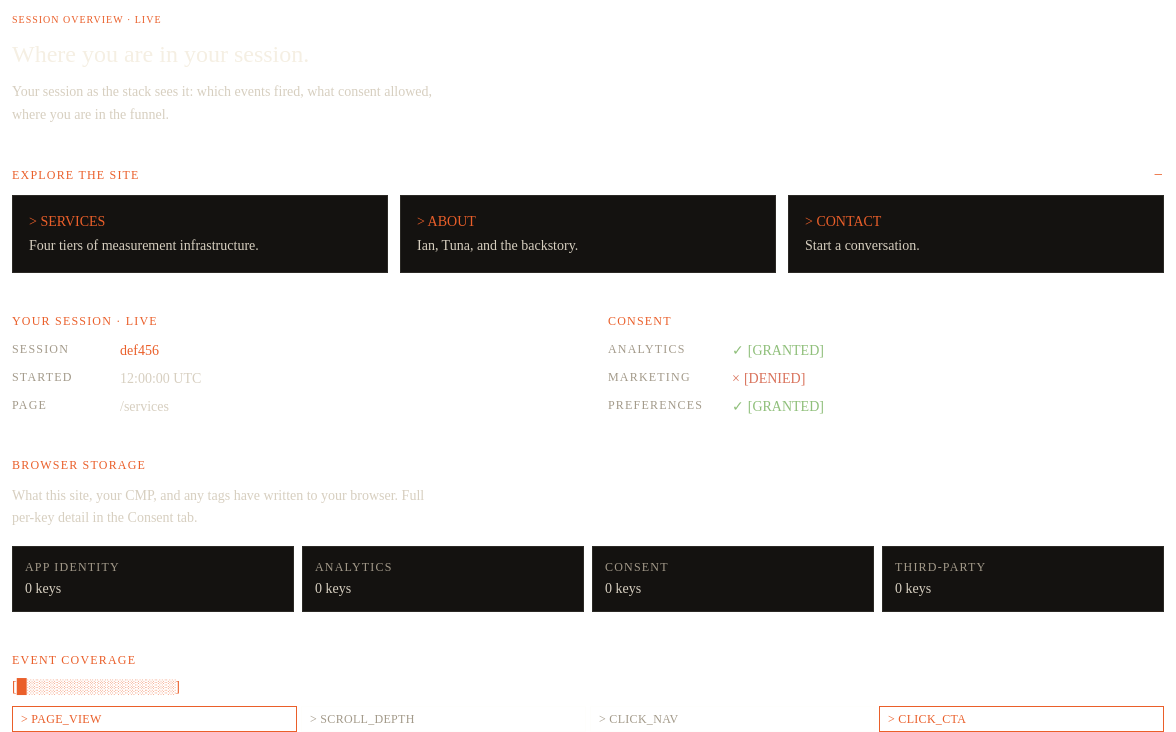
OverviewTab › UAT r3 B3, collapsible portals (mobile-default-collapsed) › clicking the toggle hides the portal list (and flips aria-expanded)
The image size is (1176, 732).
Click the button with test id "overview-portals-toggle": (76, 174) x1=12 y1=166 x2=1164 y2=182
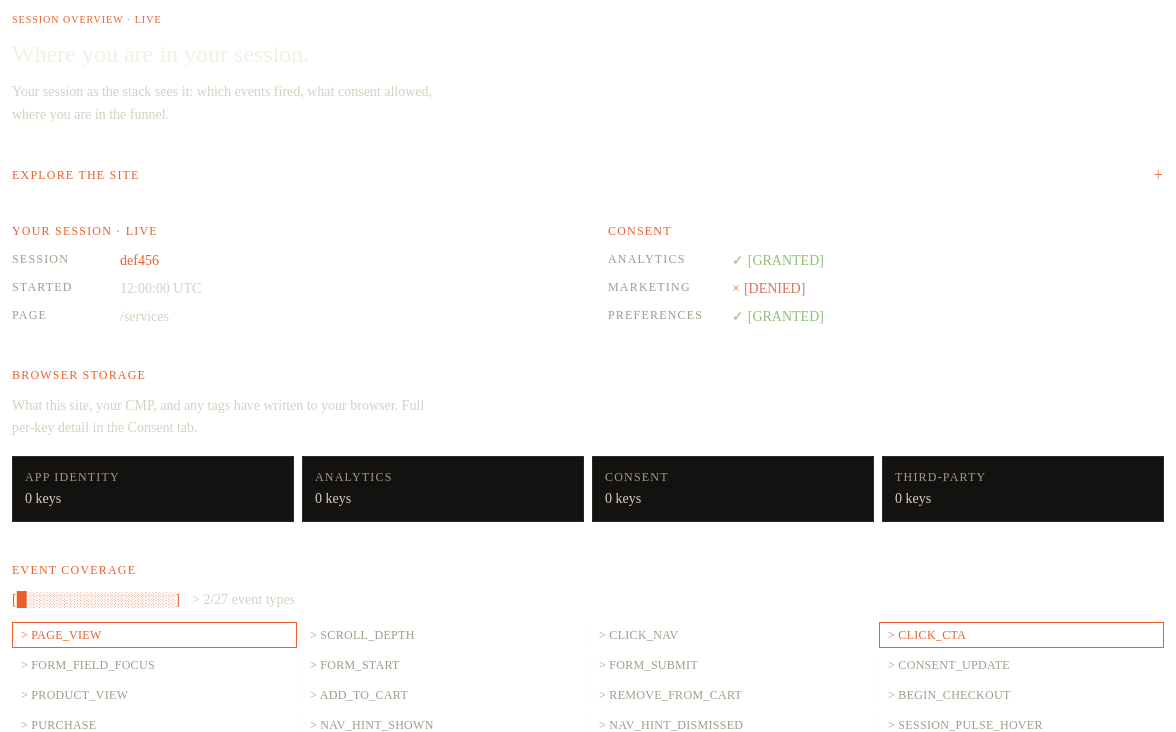
Check: the button with test id "overview-portals-toggle" is collapsed, box x1=12 y1=166 x2=1164 y2=182
Check: the list with test id "overview-portals-list" is gone
